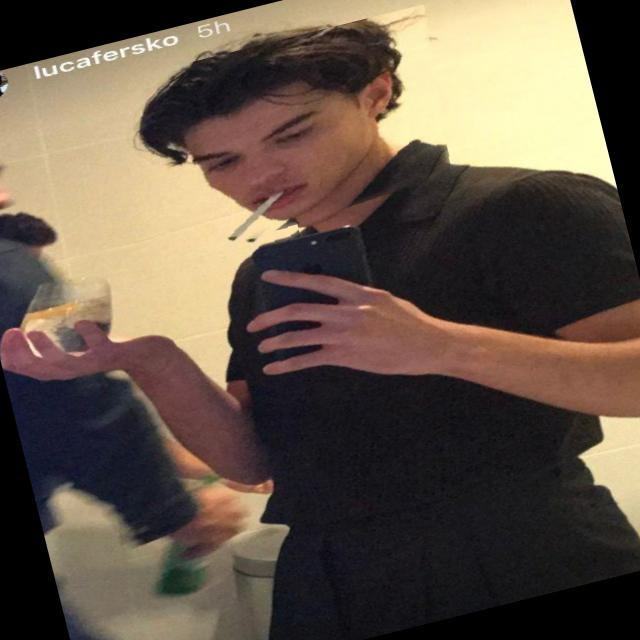cigarette: (220, 189, 302, 257)
